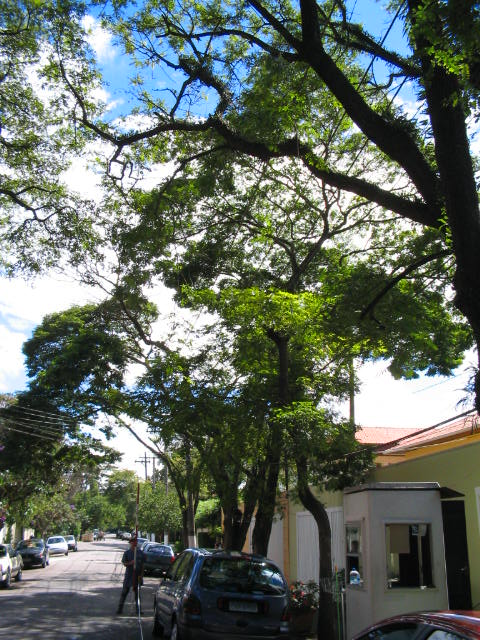stick: (126, 481, 144, 615)
